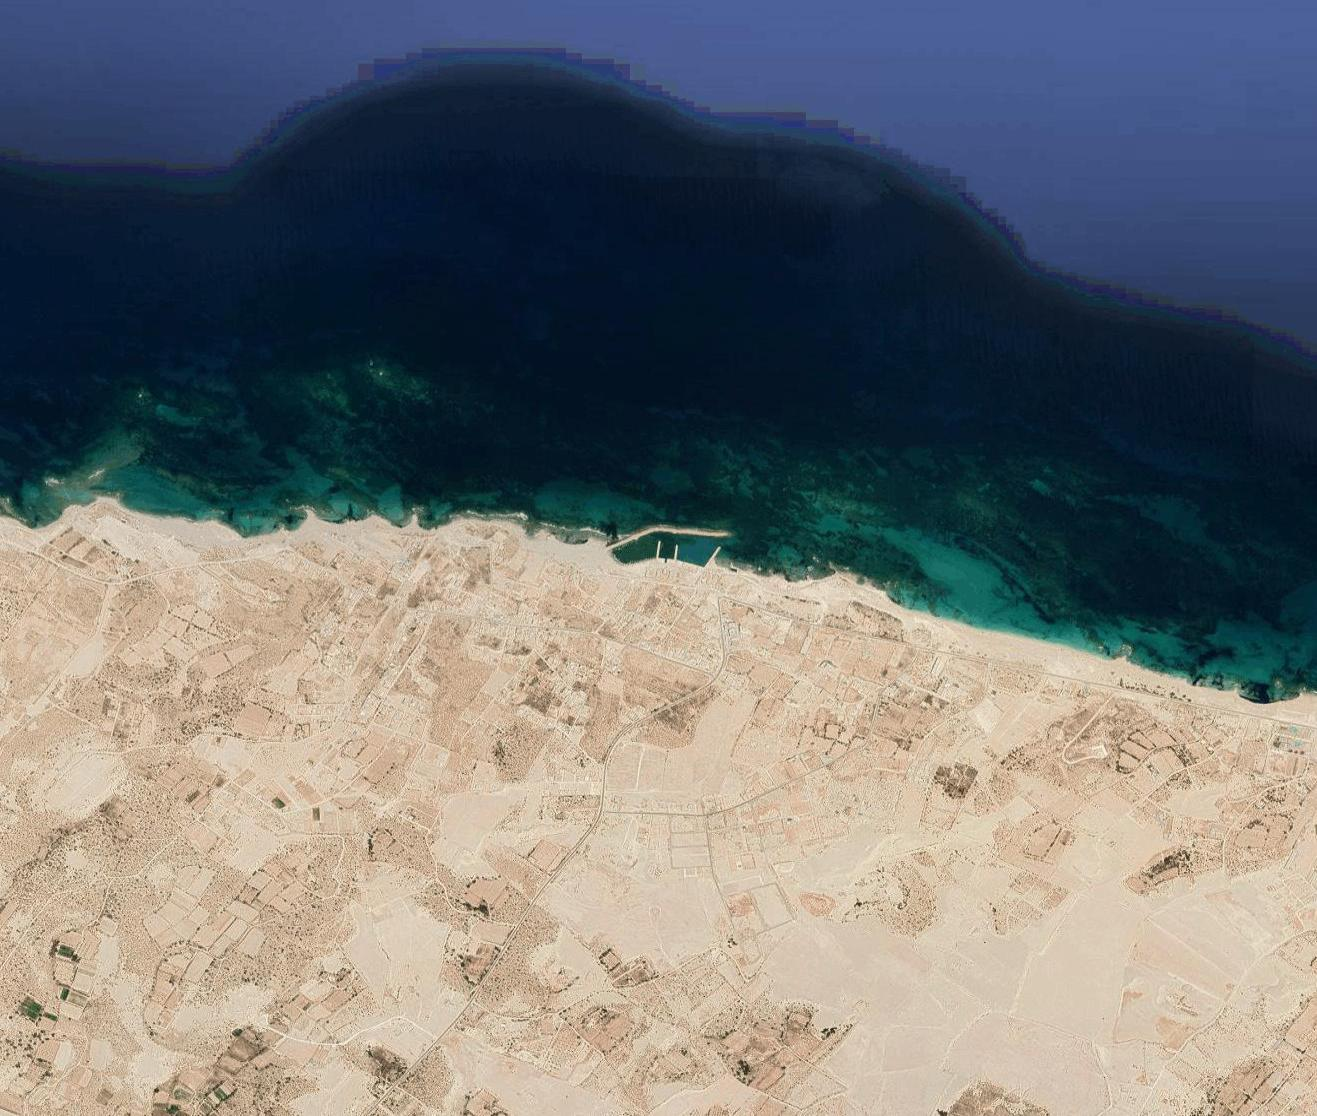harbor: (652, 540, 720, 571)
